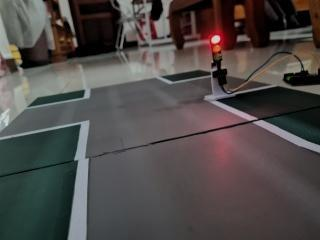red: (201, 26, 231, 85)
